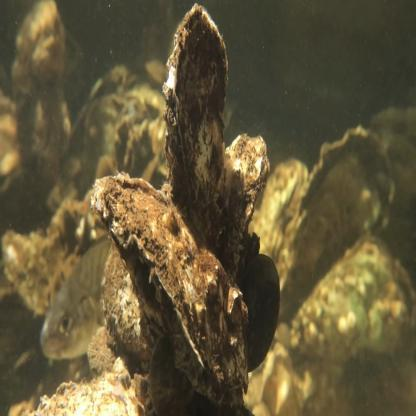Oyster- Indeterminate: (295, 244, 416, 366), (0, 90, 23, 196)
Oyster-Closed: (93, 171, 251, 398), (290, 130, 392, 311), (166, 2, 230, 260), (17, 0, 67, 199), (374, 110, 416, 280), (223, 134, 272, 276), (104, 240, 155, 368), (259, 155, 306, 279), (0, 231, 54, 318)
